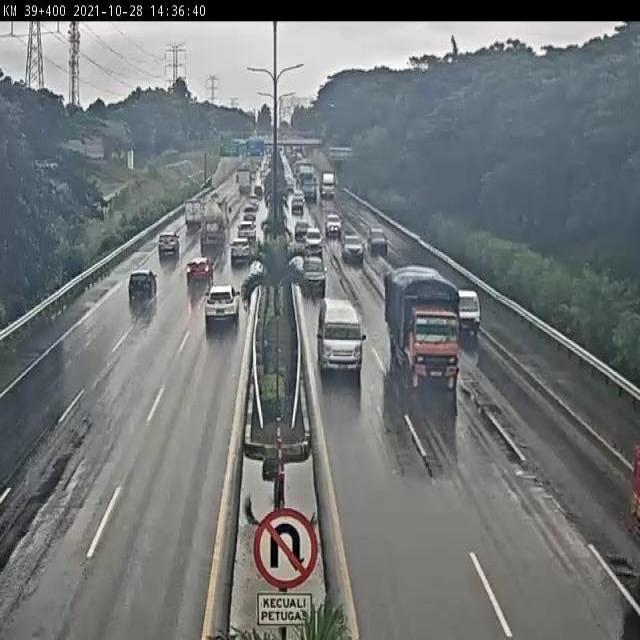bus-s-: (316, 304, 364, 376)
truck-m-: (386, 265, 457, 376)
truck-xl-: (200, 200, 234, 256)
